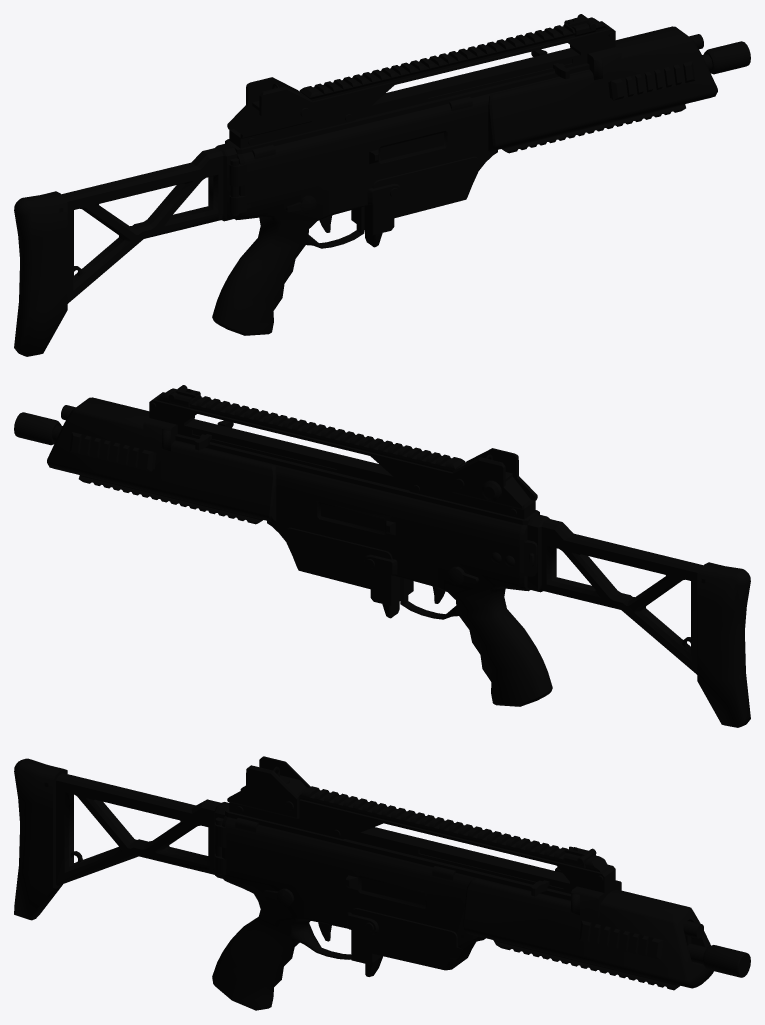
Rendered from specialcarbine_rae.glb.
The picture shows the model from 3 angles, top to bottom: view 1: azimuth 30°, elevation 25°; view 2: azimuth 150°, elevation 25°; view 3: azimuth 330°, elevation 25°; orthographic projection.
Visible parts, largest first — view 1: Gun_Root; view 2: Gun_Root; view 3: Gun_Root.
Boxes of the visible parts, x1,y1,x2,y2 form: Gun_Root: (14,14,750,356); Gun_Root: (14,385,750,727); Gun_Root: (14,756,750,1010).
Bounding box in the file's own units: 0.7595 × 0.2433 × 0.0667.
1 material, 1 textured.
